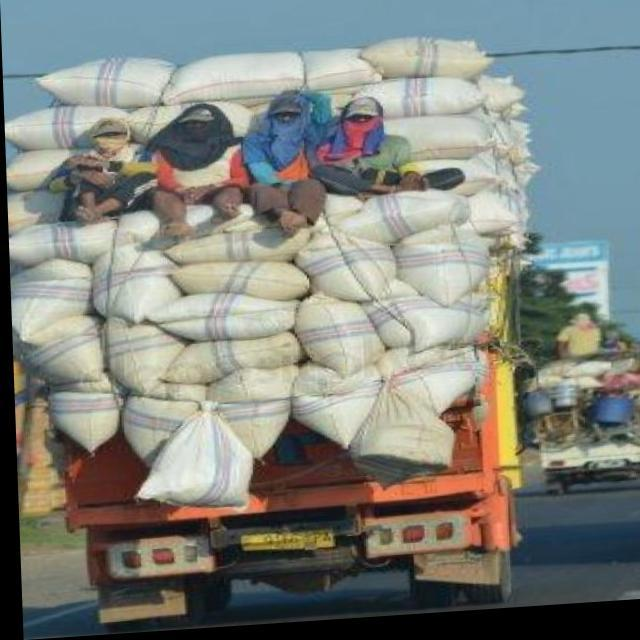covered: (1, 14, 572, 554)
